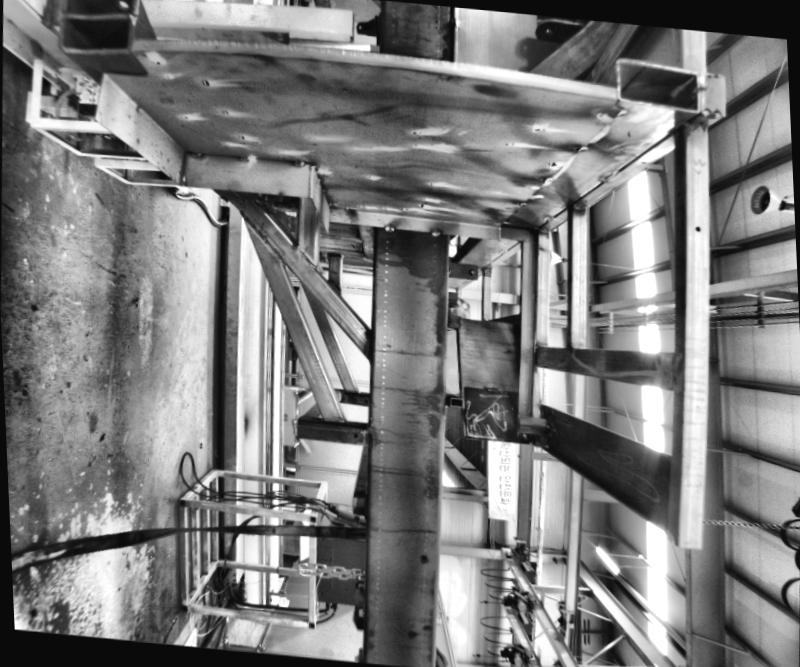hole: (689, 221, 700, 233), (416, 552, 423, 559), (349, 432, 354, 438), (632, 364, 636, 370)
welding: (226, 148, 251, 164), (182, 144, 202, 158), (423, 226, 440, 237), (378, 221, 390, 234), (284, 157, 301, 165)
